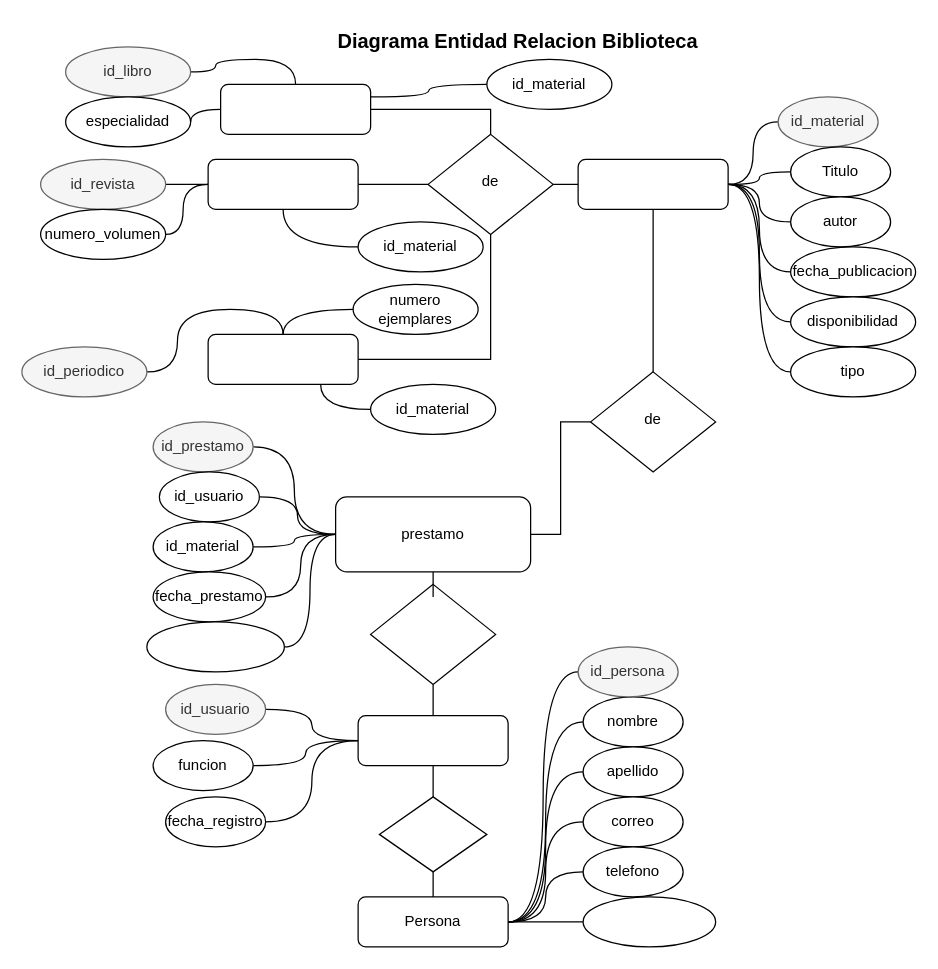
This 938x969 diagram has some shape labels left out. Here are the shapes that lost their labels. From the top down, the centre of each, then its label:
[295,108]: Libro
[282,183]: Revista
[652,183]: Material
[282,358]: Periodico
[215,646]: fecha_devolucion
[432,633]: genera
[432,740]: Usuario
[432,834]: es
[649,921]: fecha_nacimiento
